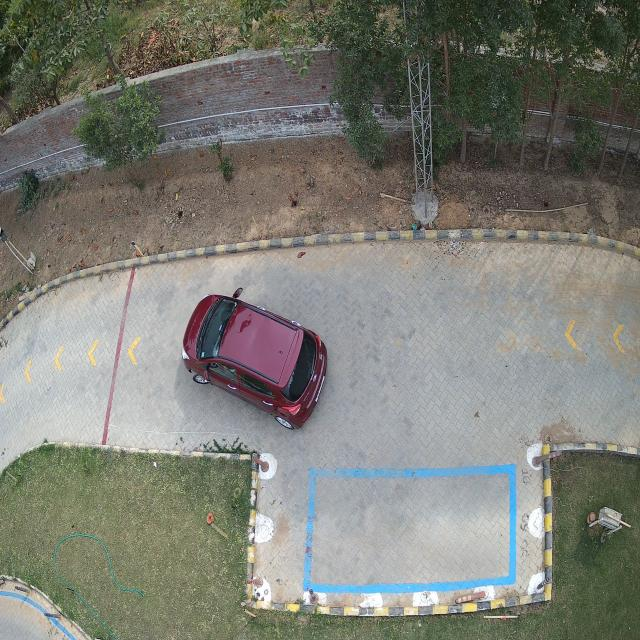car: (182, 288, 328, 430)
